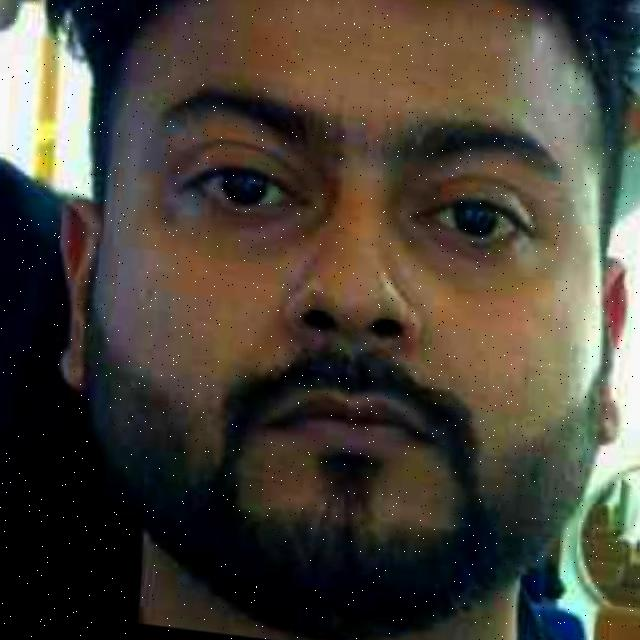puffy_eyes: (391, 177, 549, 294), (169, 163, 329, 252)
